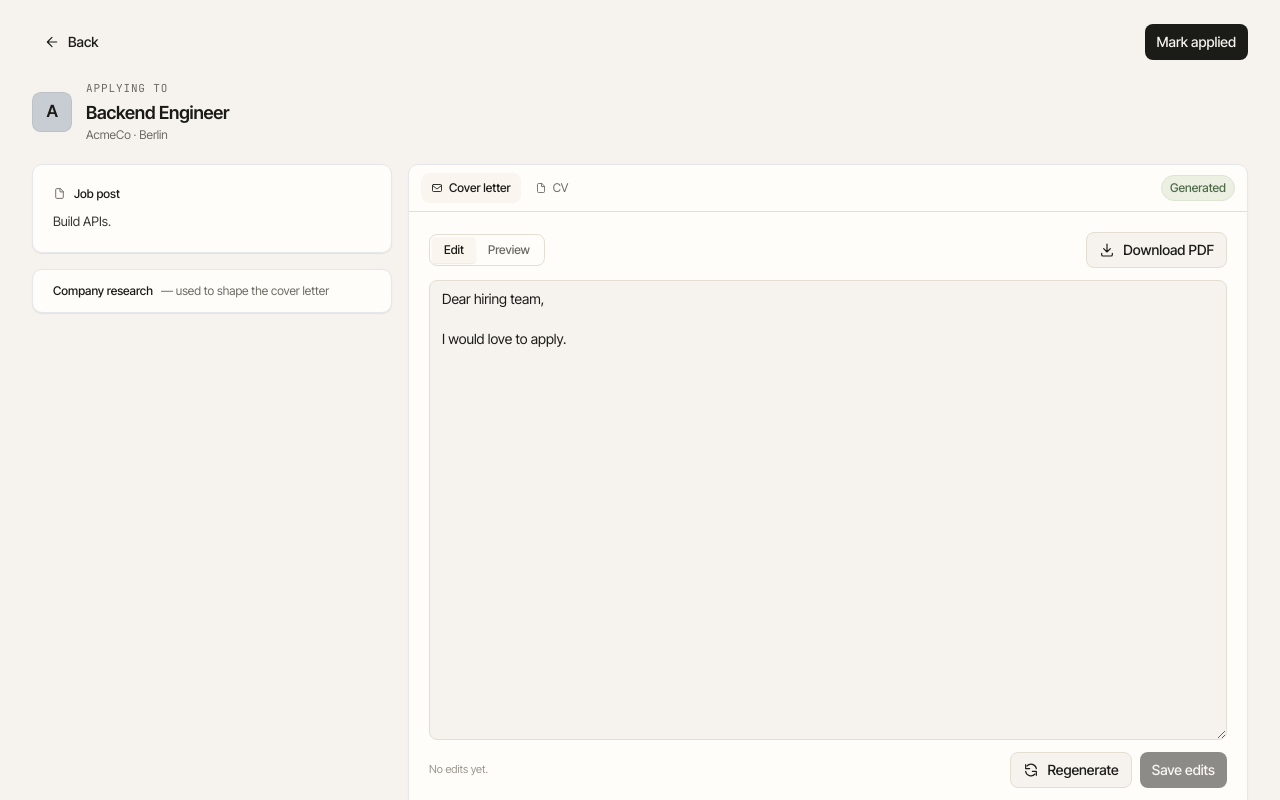
Scenario: GeneratePage (generate mode) › saves an edited cover letter and increments the edit count
This screenshot has width=1280, height=800.
Replace the text in the text box named "edit" with "My edited cover letter.". click: (828, 510)
box: [429,280,1227,740]
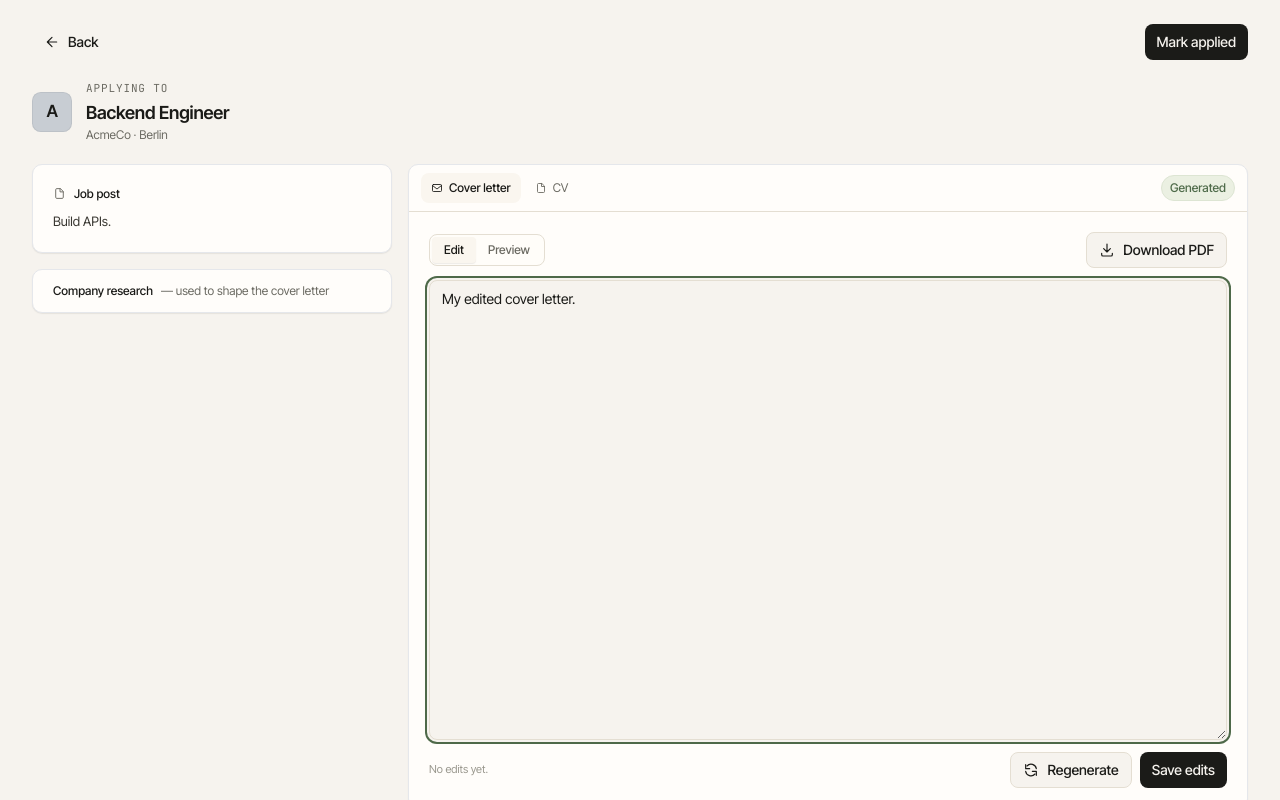
Click the button "Save edits". click: (1183, 770)
box: [1140,752,1227,788]
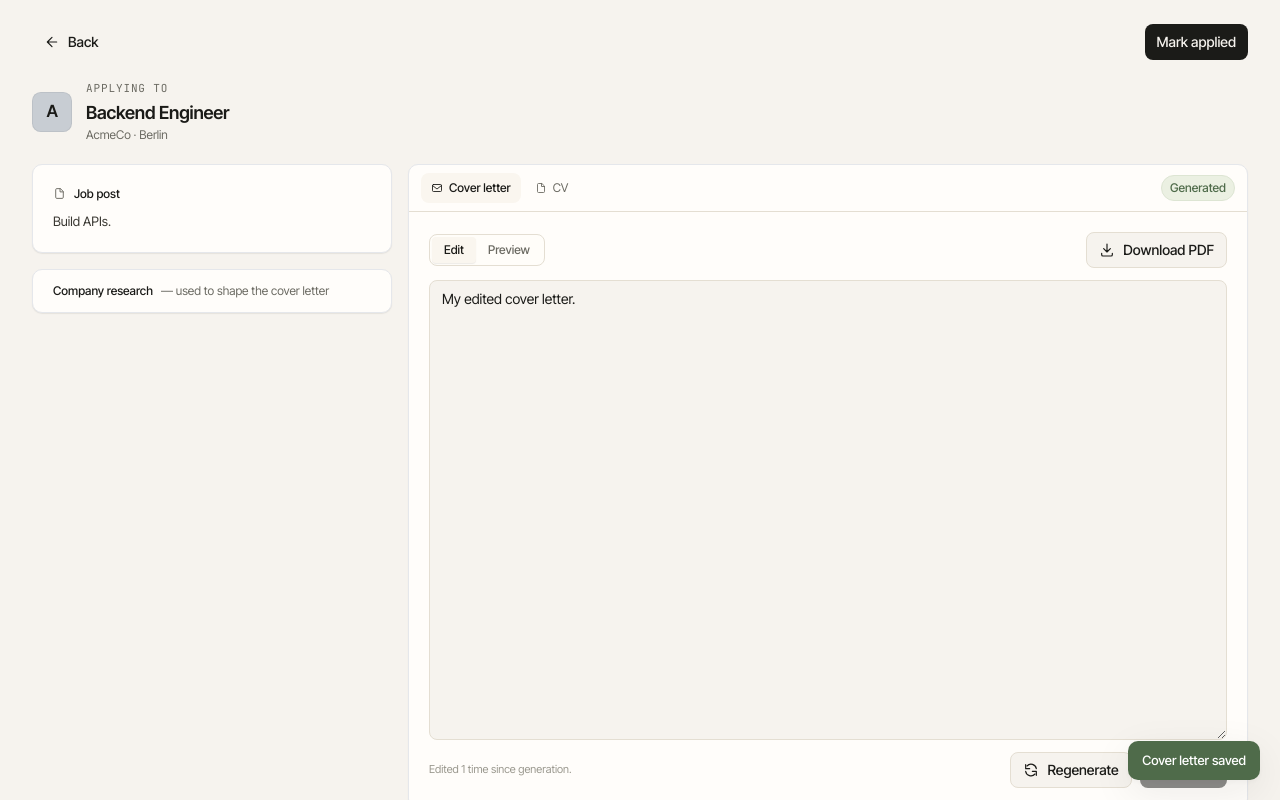
Check: the text "Edited 1 time since generation." is shown, box [429,761,572,778]
